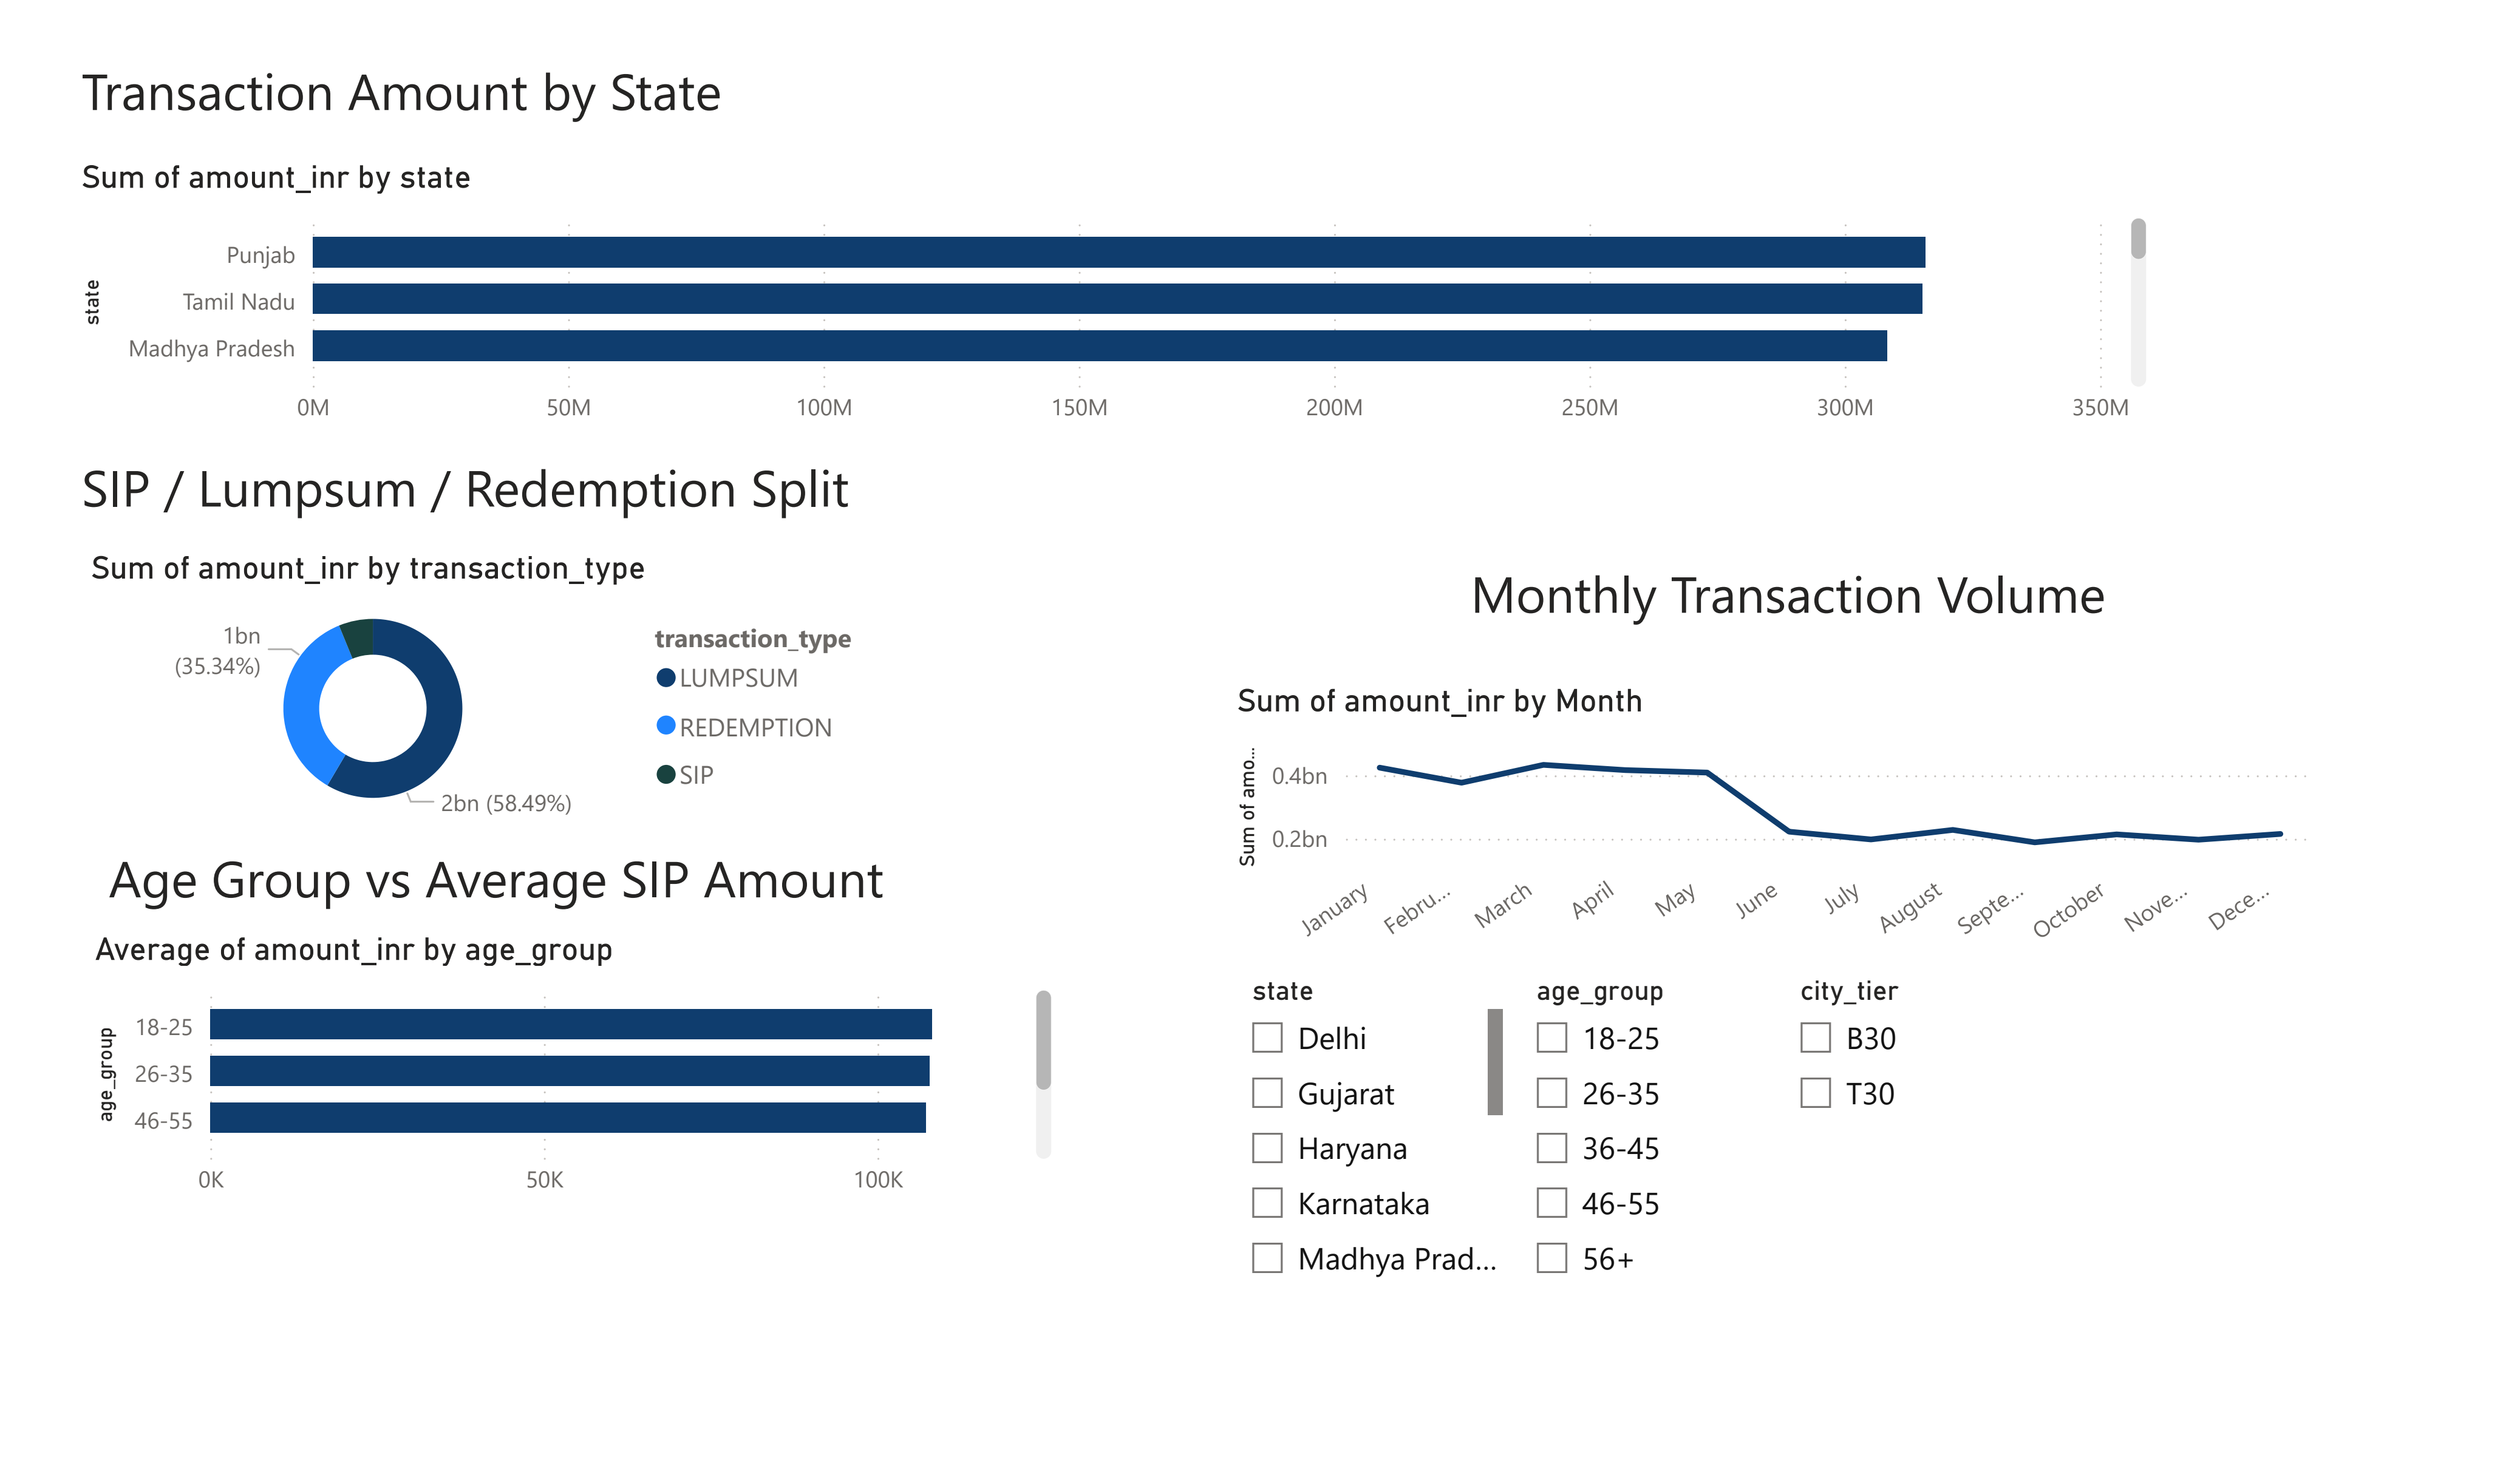

What the dashboard file says about the page in this screenshot:
{"tool":"powerbi","page":{"name":"Investor Analytics","canvas":[1280,720],"ordinal":2},"visuals":[{"type":"textbox","box":[14,0,382.6,51.2],"z":0},{"type":"clusteredBarChart","fields":{"Category":["cleaned_investor_transactions.state"],"Y":["Sum(cleaned_investor_transactions.amount_inr)"]},"box":[14,59.3,1097.7,150],"z":1000},{"type":"textbox","box":[14,209.3,425.6,48.8],"z":2000},{"type":"donutChart","fields":{"Y":["Sum(cleaned_investor_transactions.amount_inr)"],"Category":["cleaned_investor_transactions.transaction_type"]},"box":[19.4,265.1,425.5,150],"z":3000},{"type":"textbox","box":[20.7,415.1,514.7,49.1],"z":4000},{"type":"barChart","fields":{"Category":["cleaned_investor_transactions.age_group"],"Y":["Avg(cleaned_investor_transactions.amount_inr)"]},"box":[20.7,465.6,514.7,150],"z":5000},{"type":"textbox","box":[746.2,265.1,366,59.5],"z":6000},{"type":"lineChart","fields":{"Category":["cleaned_investor_transactions.transaction_date.Variation.Date Hierarchy.Month","cleaned_investor_transactions.transaction_date.Variation.Date Hierarchy.Day"],"Y":["Sum(cleaned_investor_transactions.amount_inr)"]},"box":[623.3,334.9,576.8,150],"z":7000},{"type":"slicer","fields":{"Values":["cleaned_investor_transactions.state"]},"box":[623.3,484.9,150,169.4],"z":8000},{"type":"slicer","fields":{"Values":["cleaned_investor_transactions.age_group"]},"box":[773.3,484.9,156.5,182.3],"z":9000},{"type":"slicer","fields":{"Values":["cleaned_investor_transactions.city_tier"]},"box":[911.7,484.9,146.1,150],"z":10000}]}

Visuals, with their boxes on the page's 1280x720 design canvas (x1, y1, x2, y2). These are canvas units, not pixel positions in the 2520x1457 screenshot, which may show the page scaled, cropped or inside an application window:
textbox: [14,0,397,51]
clusteredBarChart - cleaned_investor_transactions.state x Sum(cleaned_investor_transactions.amount_inr): [14,59,1112,209]
textbox: [14,209,440,258]
donutChart - Sum(cleaned_investor_transactions.amount_inr) x cleaned_investor_transactions.transaction_type: [19,265,445,415]
textbox: [21,415,535,464]
barChart - cleaned_investor_transactions.age_group x Avg(cleaned_investor_transactions.amount_inr): [21,466,535,616]
textbox: [746,265,1112,325]
lineChart - cleaned_investor_transactions.transaction_date.Variation.Date Hierarchy.Month x cleaned_investor_transactions.transaction_date.Variation.Date Hierarchy.Day: [623,335,1200,485]
slicer - cleaned_investor_transactions.state: [623,485,773,654]
slicer - cleaned_investor_transactions.age_group: [773,485,930,667]
slicer - cleaned_investor_transactions.city_tier: [912,485,1058,635]
